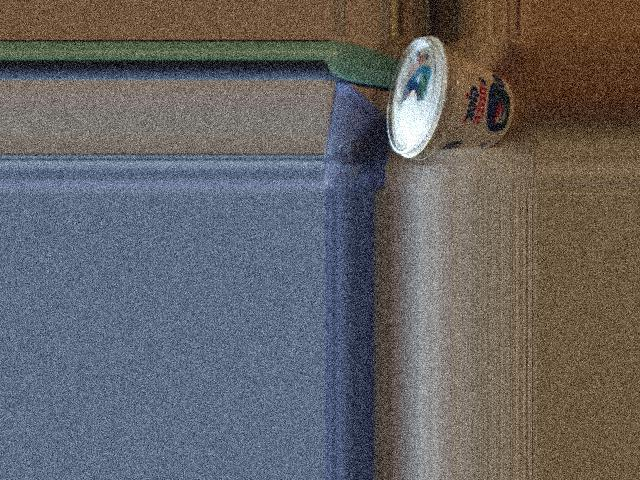cotage: (386, 50, 505, 151)
